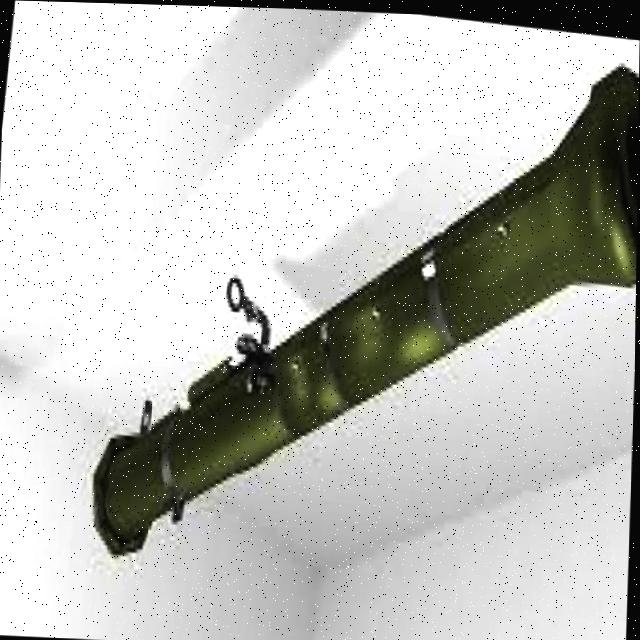rocket: (92, 13, 640, 610)
